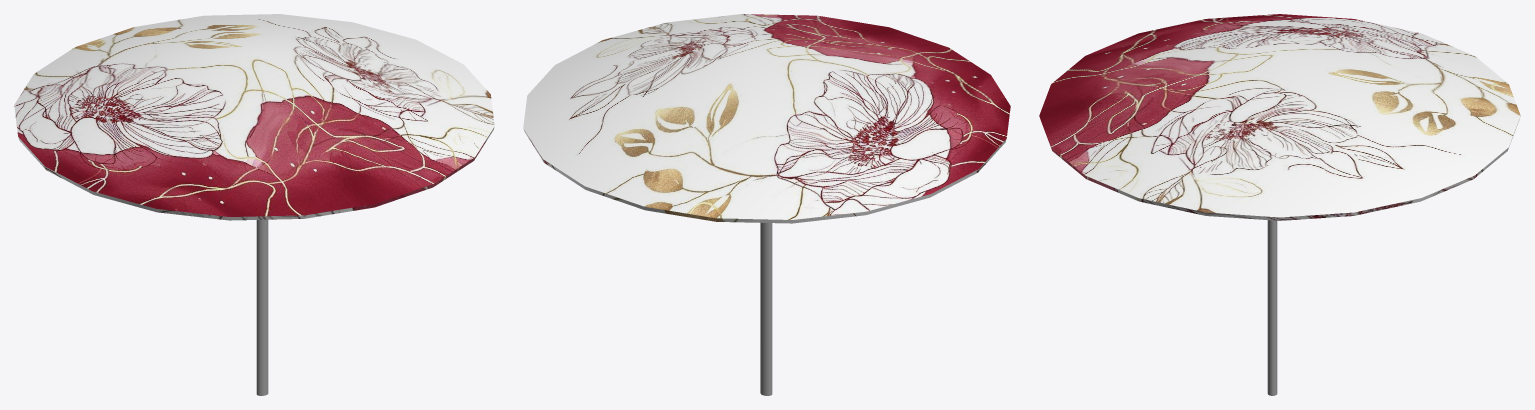
File: umbrella2.fbx
3 views of the same model, side by side, from view 1: azimuth 30°, elevation 25°; view 2: azimuth 150°, elevation 25°; view 3: azimuth 270°, elevation 25° (orthographic).
Parts seen in each view (by area): view 1: pCone2, pCylinder50; view 2: pCone2, pCylinder50; view 3: pCone2, pCylinder50.
Boxes of the visible parts, x1=… form: pCone2: x1=14, y1=14, x2=494, y2=220; pCylinder50: x1=256, y1=219, x2=268, y2=395; pCone2: x1=523, y1=14, x2=1010, y2=223; pCylinder50: x1=760, y1=223, x2=772, y2=395; pCone2: x1=1039, y1=14, x2=1520, y2=220; pCylinder50: x1=1267, y1=220, x2=1277, y2=395.
Size of the model in its own units: 194 by 149 by 194.
